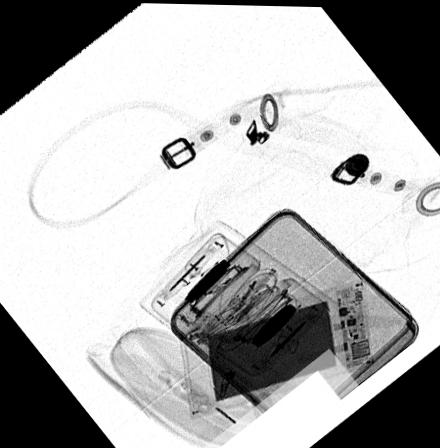Powerbank: (183, 275, 375, 421)
